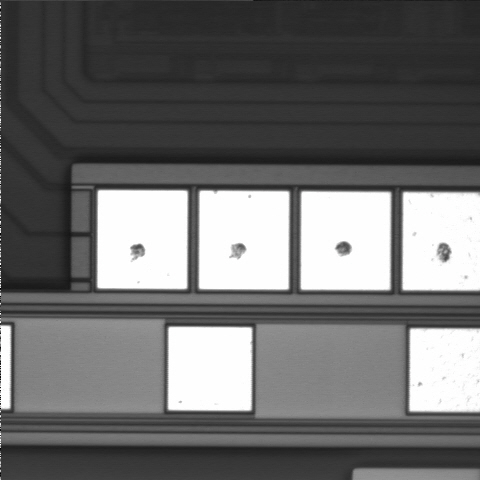pad: (97, 190, 188, 289), (199, 191, 289, 290), (301, 192, 391, 290), (168, 327, 252, 411)
